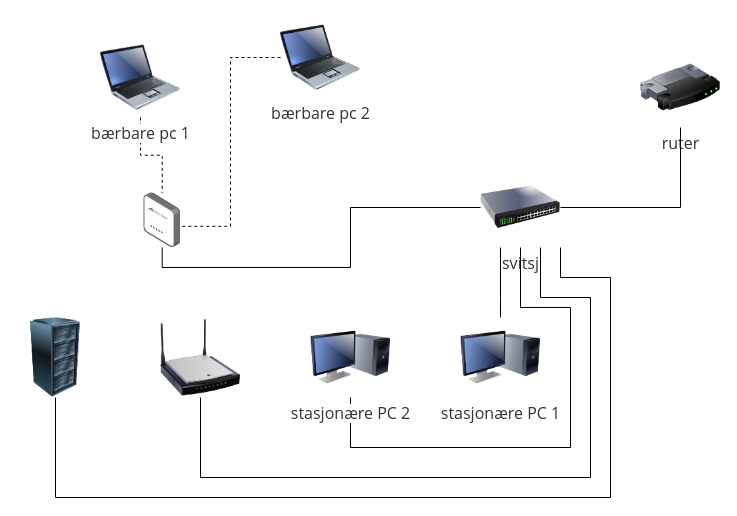
The diagram is 737 pixels wide and 516 high, and some of its shapes have lost their labels. The centre of each missing label's shape, as x and y in pixels:
aksesspunkt: the point at 161,219
Playstation 5: the point at 200,357
X-box series x: the point at 55,357
